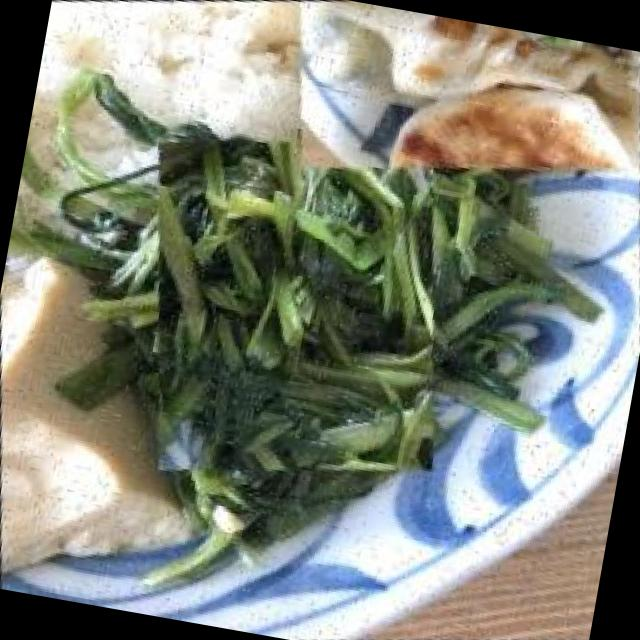fried_dumplings: (271, 0, 640, 224)
rice: (25, 0, 314, 191)
water_spinach: (86, 91, 502, 506)
